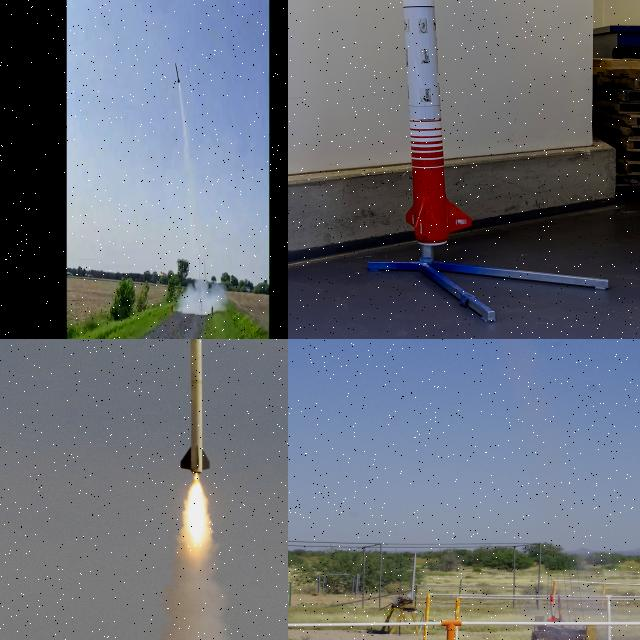Rocket: (402, 0, 472, 245), (178, 339, 212, 475), (548, 593, 556, 622), (558, 594, 566, 622), (175, 62, 180, 83)
